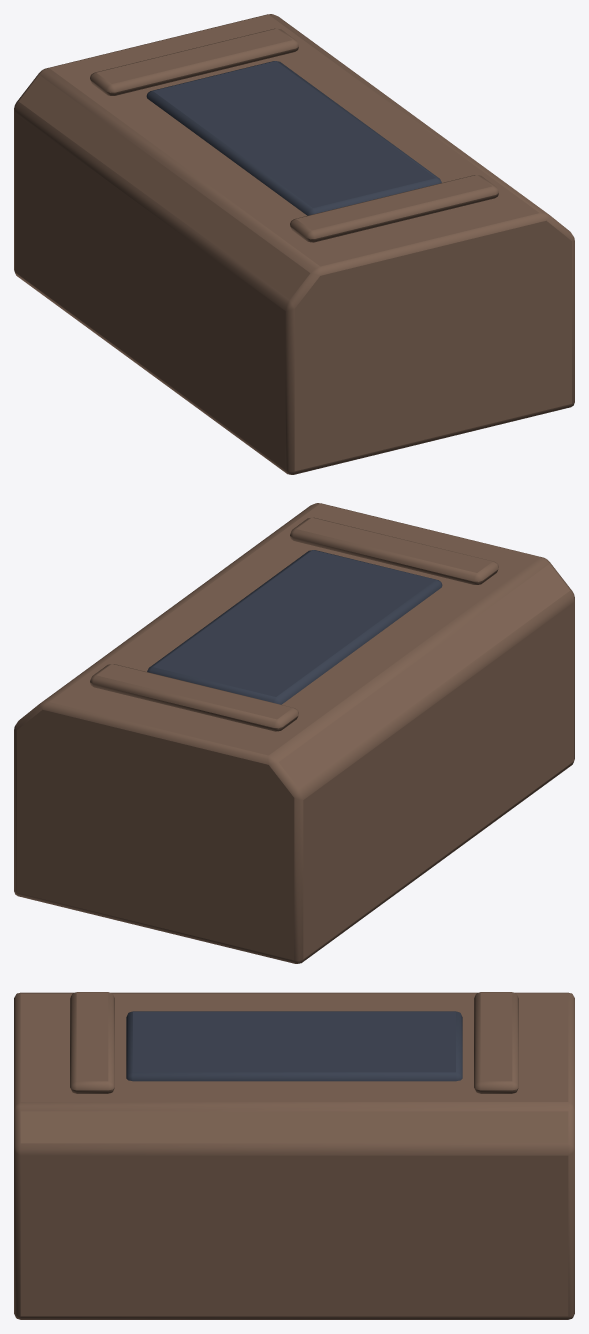
File: ware_basaltfaser.fbx
3 views of the same model, one above another, from view 1: azimuth 30°, elevation 25°; view 2: azimuth 150°, elevation 25°; view 3: azimuth 270°, elevation 25° (orthographic).
Visible parts, largest first — view 1: ware_basaltfaser_Koerper; view 2: ware_basaltfaser_Koerper; view 3: ware_basaltfaser_Koerper.
Boxes of the visible parts, bbox=[...] form: ware_basaltfaser_Koerper: bbox=[14, 14, 574, 474]; ware_basaltfaser_Koerper: bbox=[14, 503, 574, 963]; ware_basaltfaser_Koerper: bbox=[14, 992, 574, 1319].
Size of the model in its own units: 0.3 by 0.211 by 0.5.
